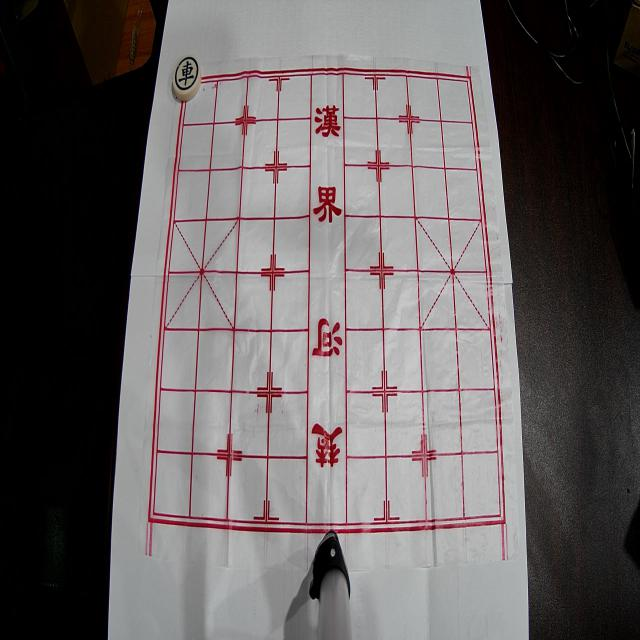black-chariot: (173, 55, 201, 101)
